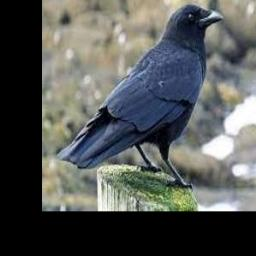Crow: (57, 3, 222, 189)
